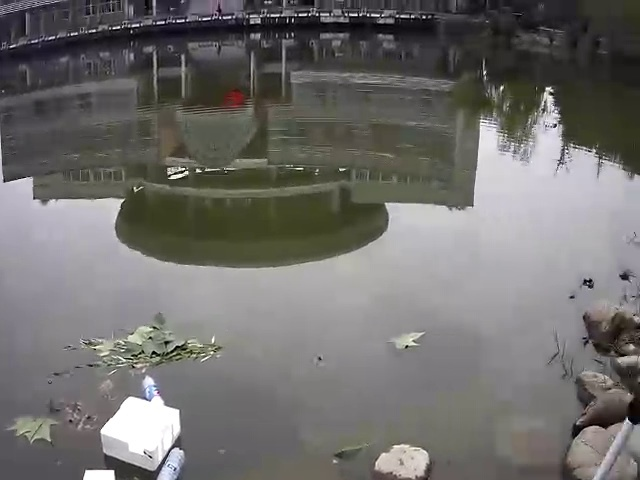bottle: (134, 370, 176, 407), (153, 446, 183, 480)
leaf: (84, 315, 223, 375), (10, 410, 60, 452), (383, 326, 428, 352)
paomo: (96, 393, 183, 471)
